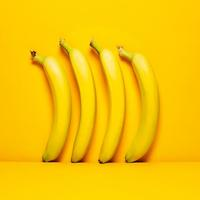banane: (54, 35, 102, 173), (119, 37, 163, 174), (24, 46, 73, 168), (88, 37, 127, 172)
